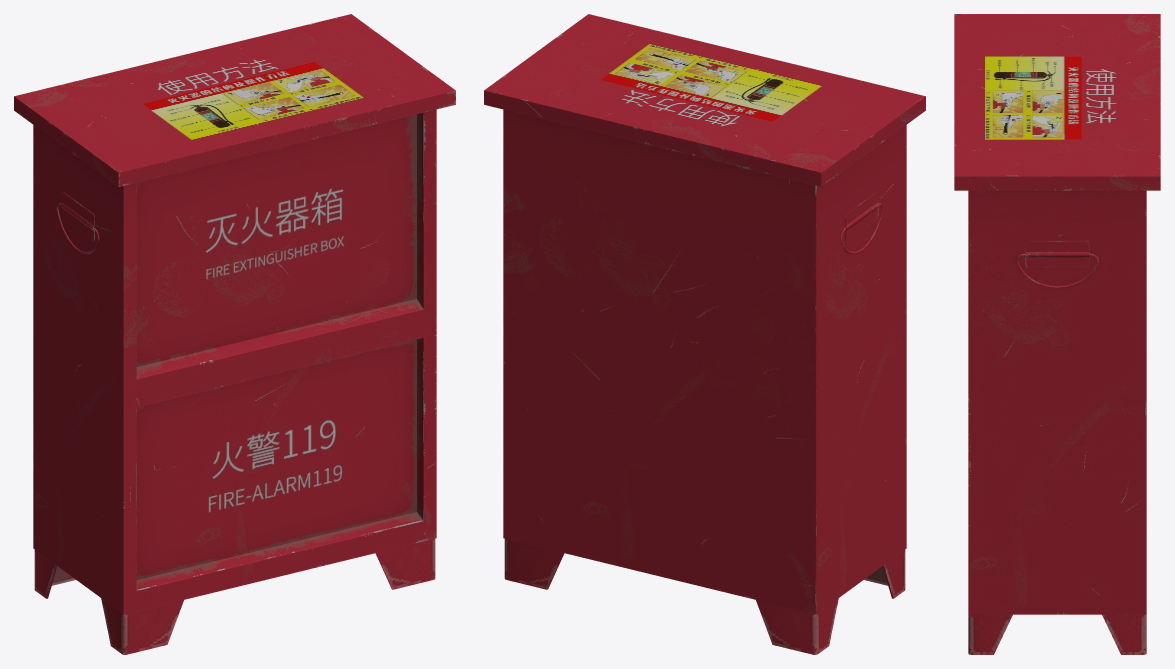
Rendered from 灭火器箱.glb.
3 views of the same model, side by side, from view 1: azimuth 30°, elevation 25°; view 2: azimuth 150°, elevation 25°; view 3: azimuth 270°, elevation 25° (orthographic).
Visible parts, largest first — view 1: P_mhqx_low; view 2: P_mhqx_low; view 3: P_mhqx_low.
Part boxes in pixels (<box>): P_mhqx_low: <box>14,14,455,654</box>; P_mhqx_low: <box>484,14,925,654</box>; P_mhqx_low: <box>954,14,1160,654</box>.
Bounding box in the file's own units: 43.14 × 60 × 23.14.
1 material, 1 textured.
